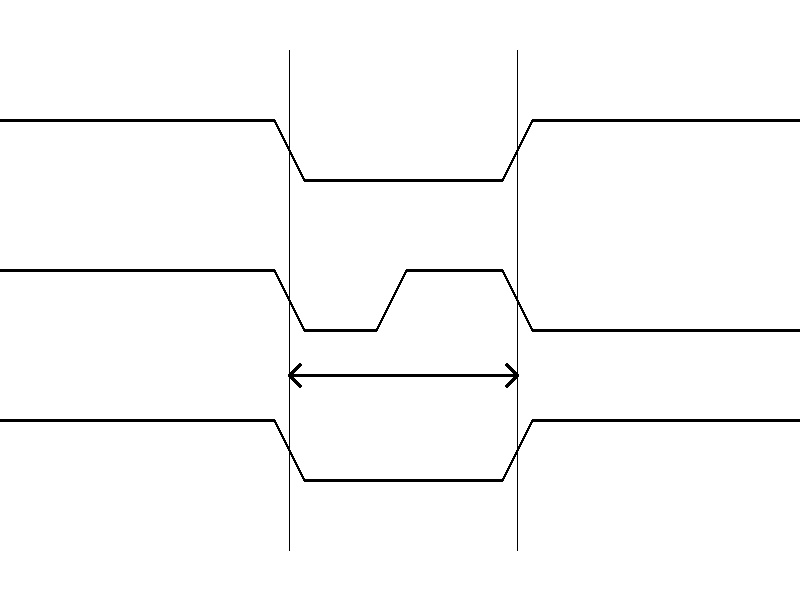double_arrow: (289, 360, 517, 390)
